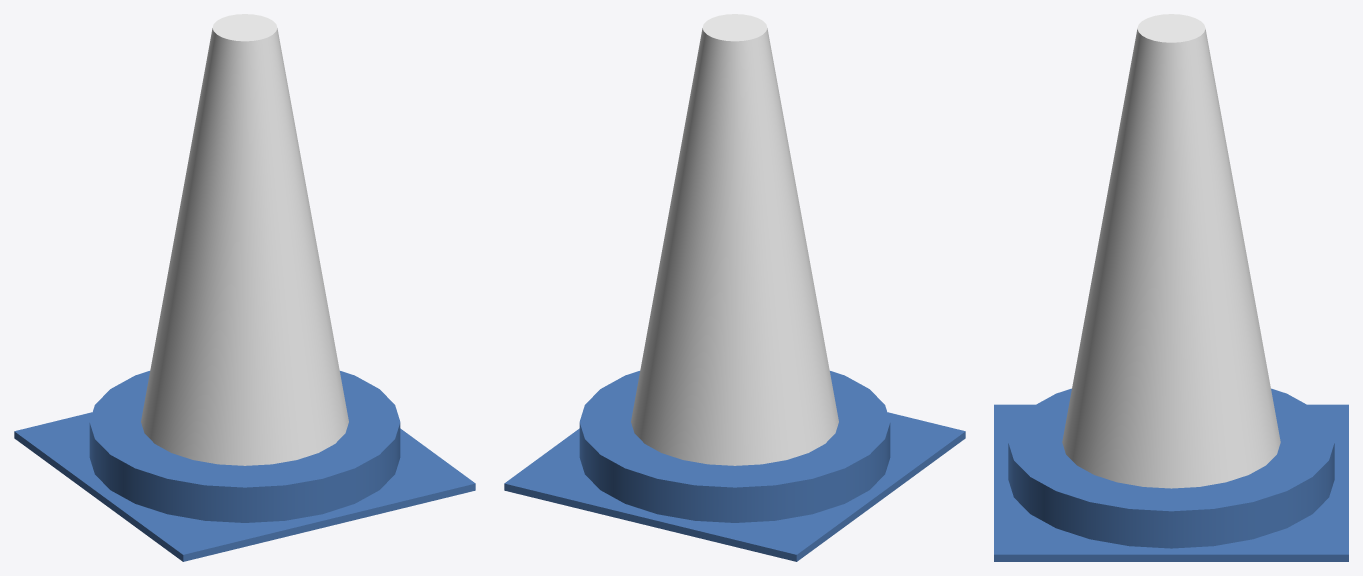
Rendered from MESH_blue_cone.glb.
The picture shows the model from 3 angles, left to right: view 1: azimuth 30°, elevation 25°; view 2: azimuth 150°, elevation 25°; view 3: azimuth 270°, elevation 25°; orthographic projection. The views are drawn at different scales.
Visible parts, largest first — view 1: blue_cone; view 2: blue_cone; view 3: blue_cone.
Boxes of the visible parts, box(x1,y1,x2,y2) form: blue_cone: box(14, 14, 475, 561); blue_cone: box(504, 14, 965, 561); blue_cone: box(994, 14, 1348, 561).
Size of the model in its own units: 0.228 by 0.3252 by 0.228.
